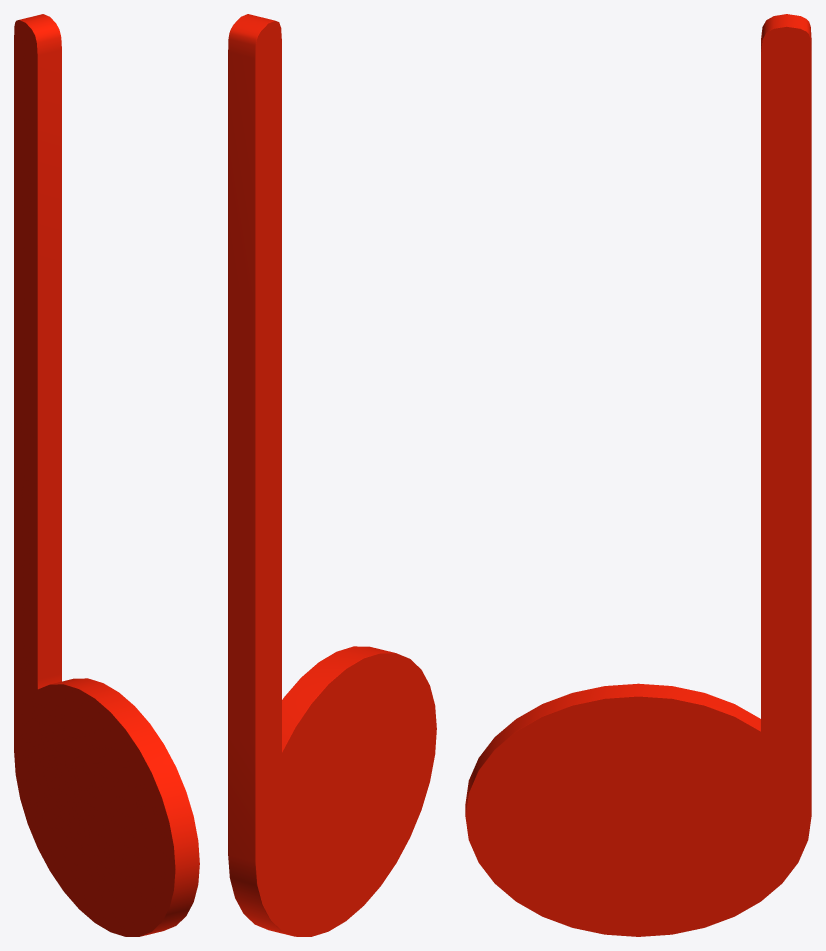
File: musicNotes_06.fbx
The picture shows the model from 3 angles, left to right: view 1: azimuth 30°, elevation 25°; view 2: azimuth 150°, elevation 25°; view 3: azimuth 270°, elevation 25°; orthographic projection. The views are drawn at different scales.
Visible parts, largest first — view 1: Cylinder.001; view 2: Cylinder.001; view 3: Cylinder.001.
Boxes of the visible parts, x1=… form: Cylinder.001: x1=14, y1=14, x2=199, y2=936; Cylinder.001: x1=228, y1=14, x2=436, y2=936; Cylinder.001: x1=465, y1=14, x2=811, y2=936.
Bounding box in the file's own units: 1.83 × 60.88 × 20.98.
